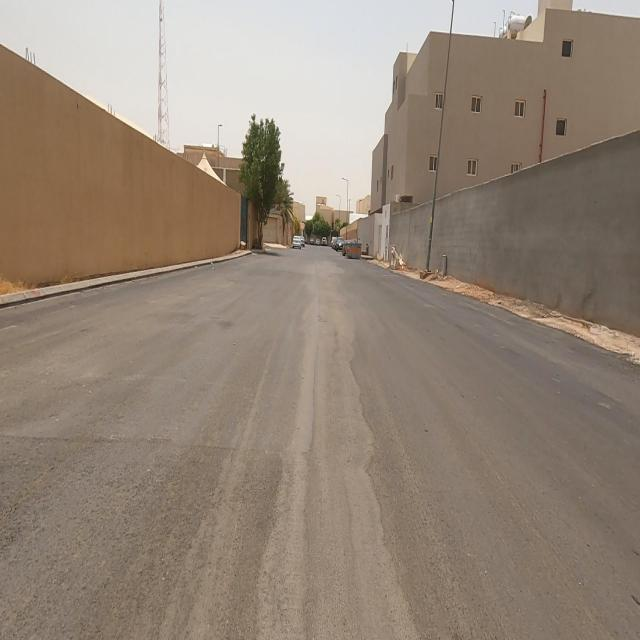debris: (373, 219, 419, 299)
